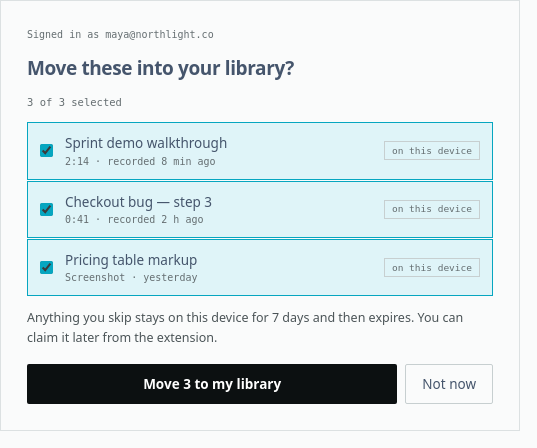
claim guest captures (A3) › disables the primary action when nothing is selected
What coordinates should you click on to do the following:
click the checkbox named "Sprint demo walkthrough"
I would click on:
 (46, 151)
Its box is top-left (40, 144), bottom-right (53, 157).
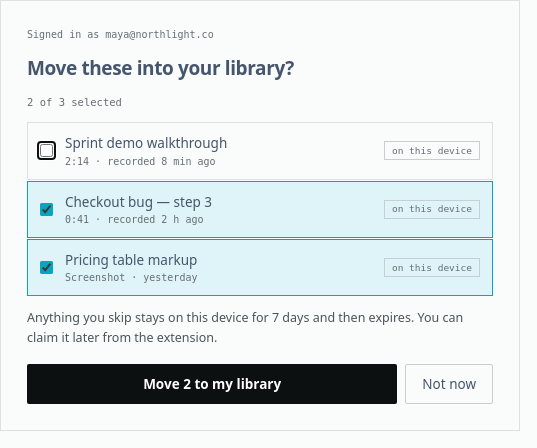
What coordinates should you click on to do the following:
click the checkbox labelled "Checkout bug — step 3 0:41 · recorded 2 h ago on this device"
I would click on:
 (46, 209)
Its box is top-left (40, 203), bottom-right (53, 216).
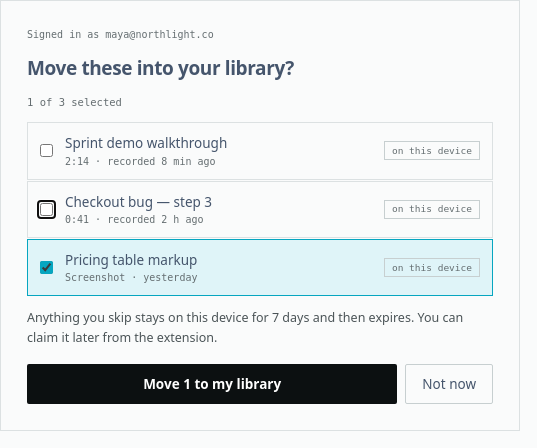
What coordinates should you click on to do the following:
click the checkbox labelled "Pricing table markup Screenshot · yesterday on this device"
I would click on:
 (46, 267)
Its box is top-left (40, 261), bottom-right (53, 274).
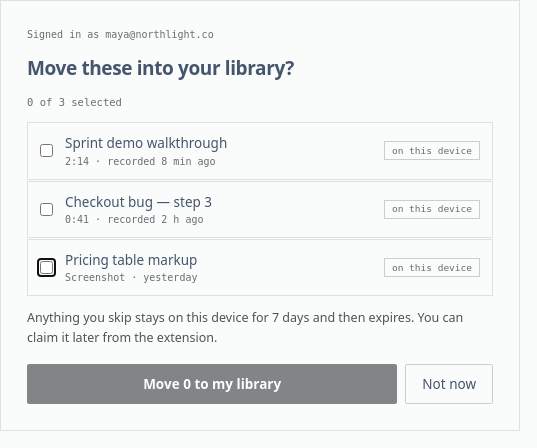
Expected: the button "Move 0 to my library" is disabled, top-left (27, 364), bottom-right (397, 404)
